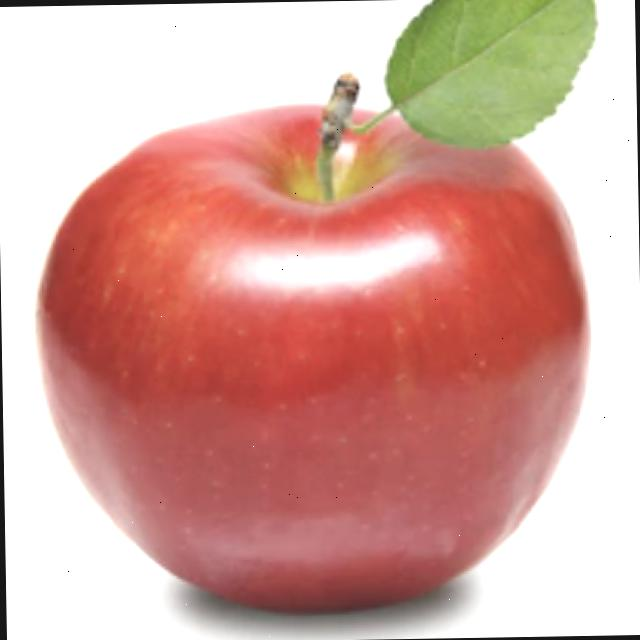Ripe: (23, 92, 602, 620)
